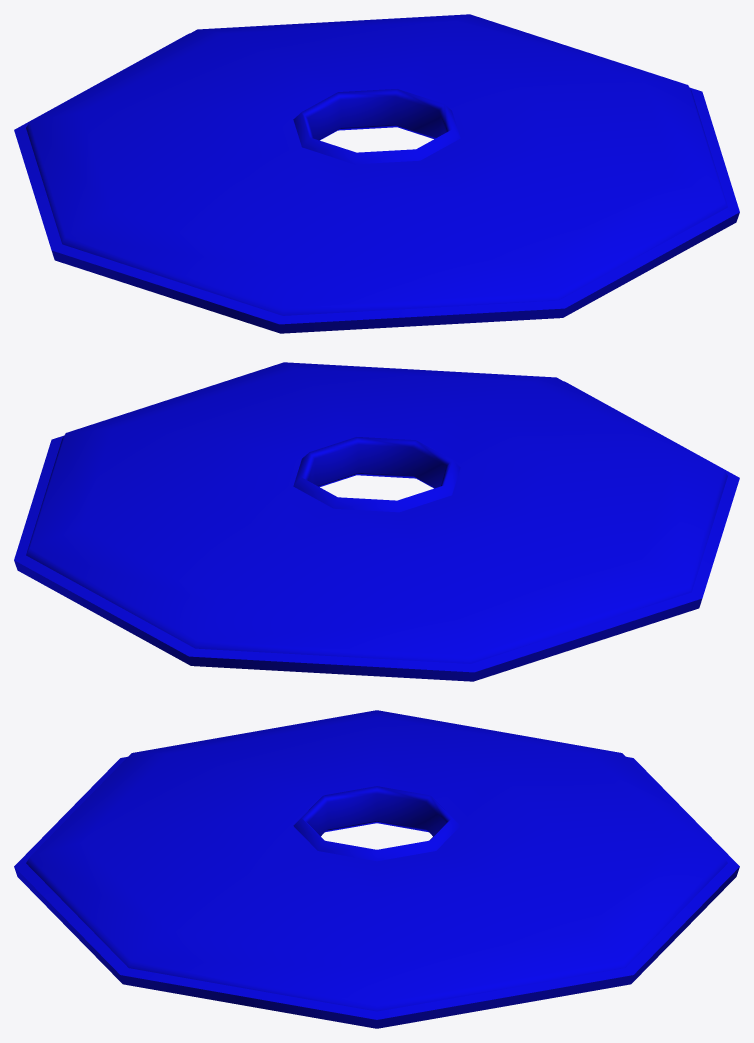
File: Frisbee_mesh.fbx
3 views of the same model, one above another, from view 1: azimuth 30°, elevation 25°; view 2: azimuth 150°, elevation 25°; view 3: azimuth 270°, elevation 25° (orthographic). The views are drawn at different scales.
Visible parts, largest first — view 1: Frisbee_mesh; view 2: Frisbee_mesh; view 3: Frisbee_mesh.
Boxes of the visible parts, box(x1,y1,x2,y2) form: Frisbee_mesh: box(14, 14, 739, 333); Frisbee_mesh: box(14, 362, 739, 681); Frisbee_mesh: box(14, 710, 739, 1028).
Size of the model in its own units: 31.22 by 2.8 by 31.22.
